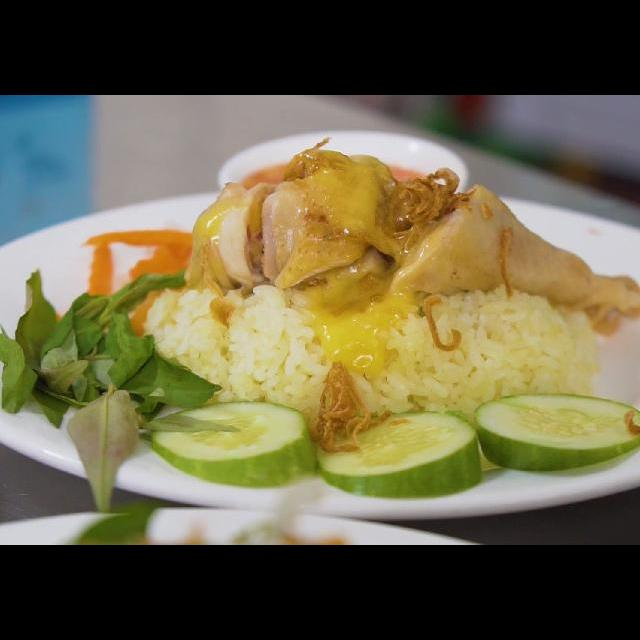com: (138, 279, 606, 429)
com ga: (0, 155, 640, 543)
rau ram: (0, 262, 225, 515)
thit ga: (177, 132, 640, 343)
